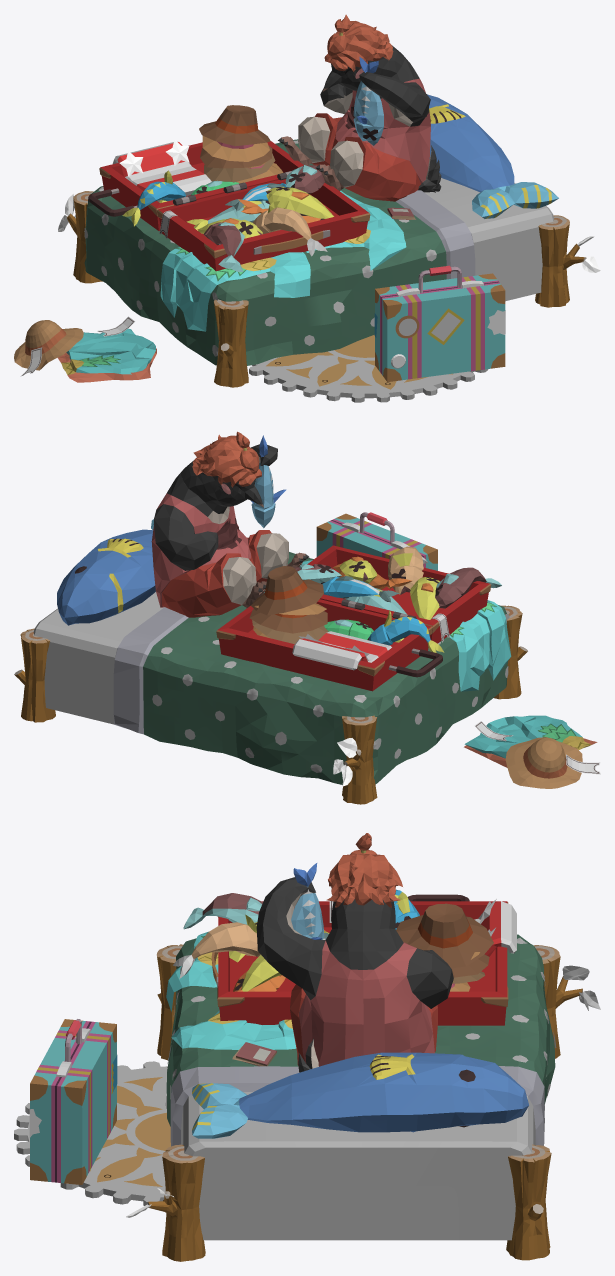
Rendered from 0058_vapenpacking.fbx.
3 renders of one model, top to bottom at view 1: azimuth 30°, elevation 25°; view 2: azimuth 150°, elevation 25°; view 3: azimuth 270°, elevation 25°, orthographic. The views are drawn at different scales.
Parts seen in each view (by area): view 1: Bed, Vapen_Body, Suitcase, suitcase02 (×2), fish_Pillow, Mat, Bed_Leg (×3), shirt01, Vapen_Head, shirt03, Hat01 (×2), Swimsuit (+17 smaller); view 2: Bed, Vapen_Body, suitcase02 (×2), fish_Pillow, Bed_Leg (×3), Vapen_Head, shirt01, Hat01 (×2), Hat04, Suitcase, vapen_R_Arm, shirt03 (+11 smaller); view 3: Bed, fish_Pillow, Vapen_Body, Bed_Leg (×4), Suitcase, Mat, suitcase02 (×2), Vapen_Head, Hat01, shirt02, Fish03, vapen_R_Arm (+6 smaller).
Boxes of the visible parts, x1=… form: Bed: x1=84, y1=139, x2=554, y2=365; Vapen_Body: x1=278, y1=54, x2=430, y2=201; Suitcase: x1=375, y1=273, x2=505, y2=382; suitcase02 (×2): x1=99, y1=141, x2=370, y2=271; fish_Pillow: x1=427, y1=94, x2=558, y2=218; Mat: x1=249, y1=335, x2=488, y2=402; Bed_Leg (×3): x1=67, y1=191, x2=586, y2=387; shirt01: x1=160, y1=247, x2=310, y2=331; Vapen_Head: x1=322, y1=14, x2=405, y2=91; shirt03: x1=66, y1=328, x2=155, y2=374; Hat01 (×2): x1=199, y1=105, x2=272, y2=168; Swimsuit: x1=112, y1=141, x2=211, y2=201; Bed: x1=33, y1=552, x2=509, y2=784; Vapen_Body: x1=151, y1=444, x2=309, y2=617; suitcase02 (×2): x1=216, y1=545, x2=491, y2=691; fish_Pillow: x1=57, y1=519, x2=155, y2=625; Bed_Leg (×3): x1=14, y1=605, x2=527, y2=804; Vapen_Head: x1=180, y1=431, x2=263, y2=513; shirt01: x1=449, y1=600, x2=511, y2=691; Hat01 (×2): x1=249, y1=566, x2=327, y2=633; Hat04: x1=505, y1=737, x2=582, y2=788; Suitcase: x1=316, y1=513, x2=437, y2=570; vapen_R_Arm: x1=154, y1=504, x2=218, y2=570; shirt03: x1=464, y1=715, x2=583, y2=758; Bed: x1=165, y1=934, x2=556, y2=1240; fish_Pillow: x1=192, y1=1052, x2=528, y2=1138; Vapen_Body: x1=256, y1=877, x2=437, y2=1066; Bed_Leg (×4): x1=147, y1=944, x2=582, y2=1261; Suitcase: x1=30, y1=1019, x2=116, y2=1184; Mat: x1=14, y1=1061, x2=170, y2=1207; suitcase02 (×2): x1=217, y1=901, x2=508, y2=1025; Vapen_Head: x1=326, y1=833, x2=402, y2=930; Hat01: x1=396, y1=903, x2=493, y2=968; shirt02: x1=171, y1=1010, x2=296, y2=1049; Fish03: x1=173, y1=914, x2=260, y2=978; vapen_R_Arm: x1=406, y1=948, x2=453, y2=1008.
Bounding box in the file's own units: 8.06 × 4.05 × 6.36.
